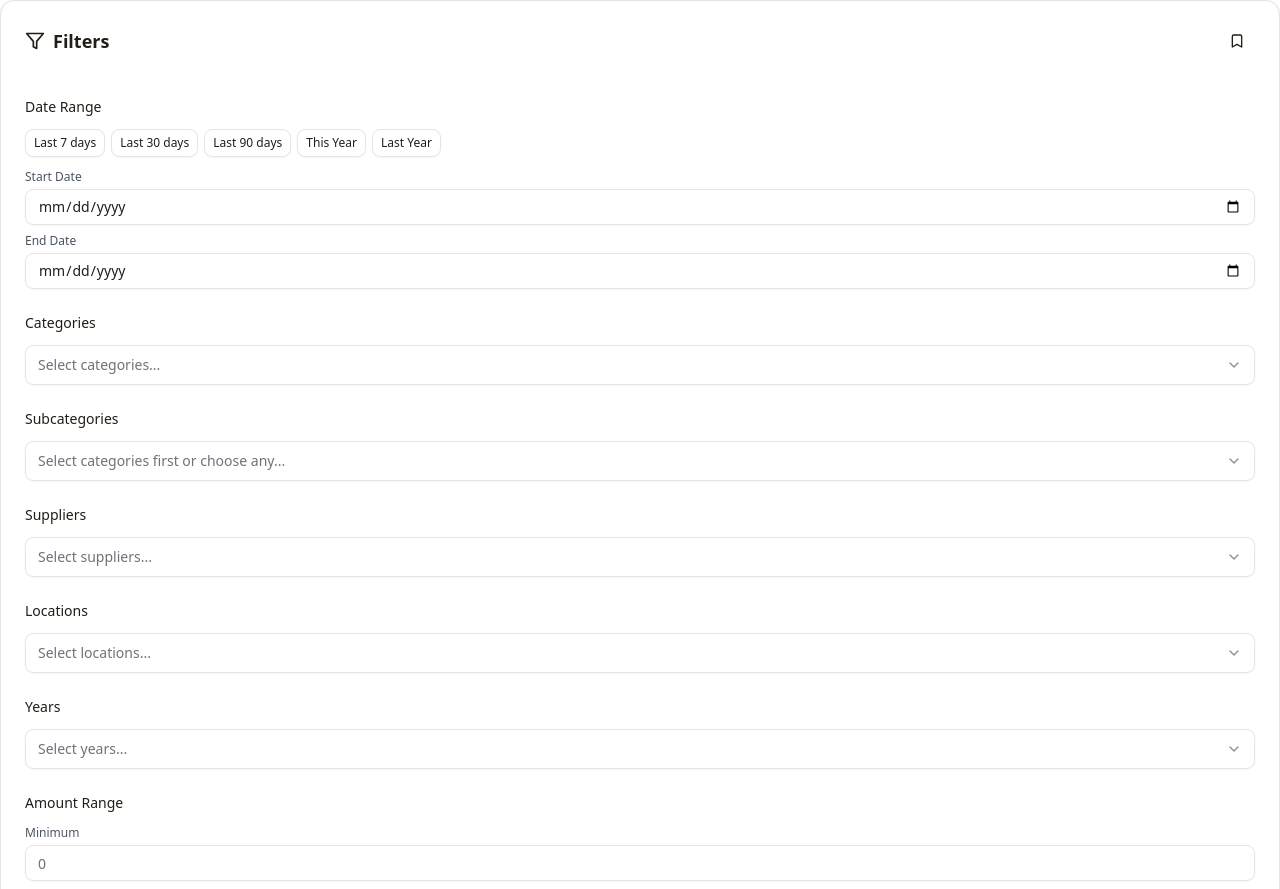
Test case: FilterPane › Filter Presets › should display saved presets
This screenshot has width=1280, height=889.
What coordinates should you click on to do the following:
click the button named "Filter presets"
I would click on:
 (1237, 41)
Its box is [1219,25,1255,57].
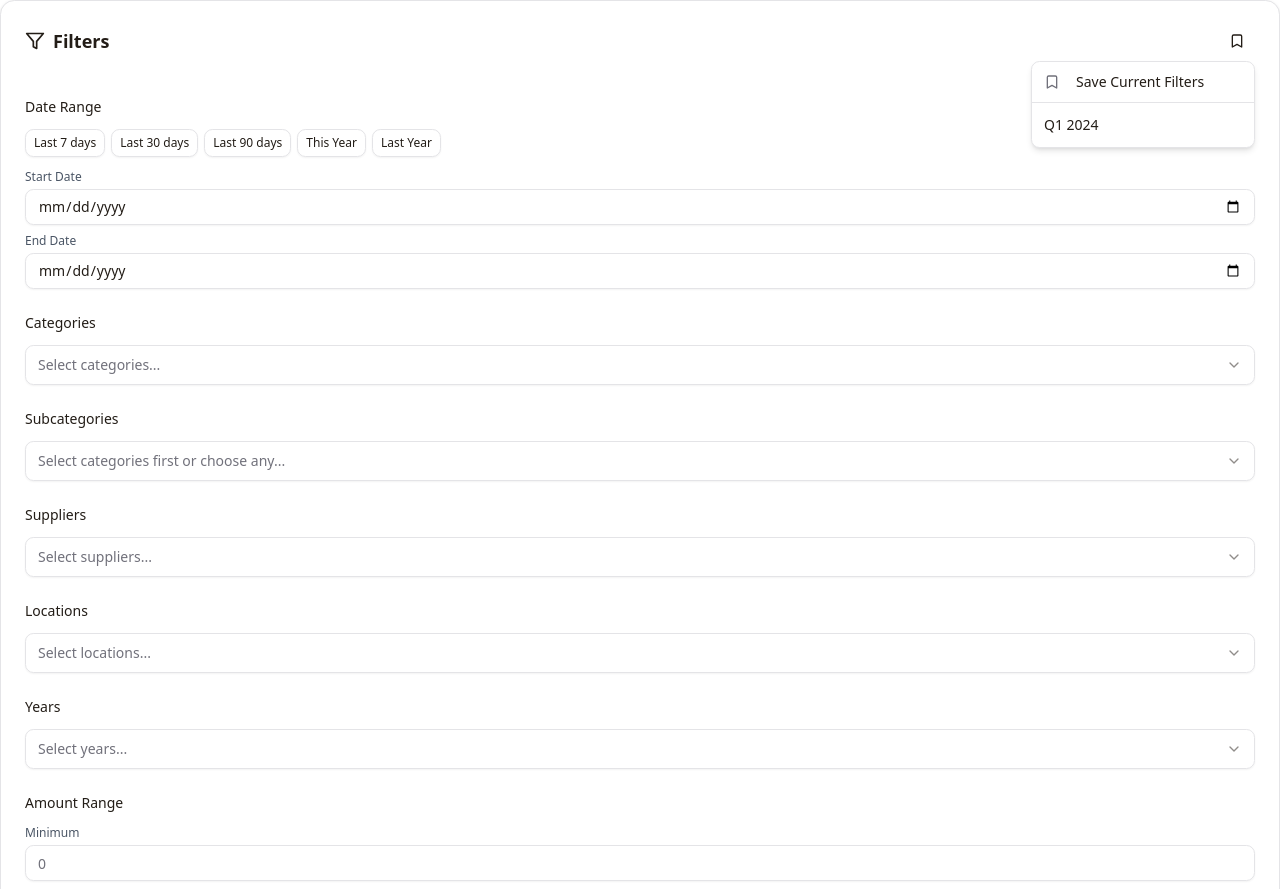
expect the text "Q1 2024" is shown: met, box [1044,115,1099,135]
